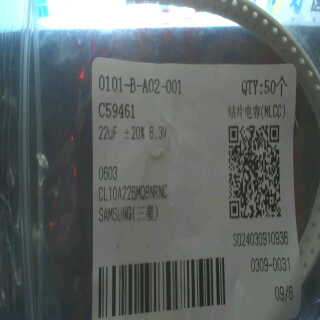22uF: (95, 123, 123, 144)
